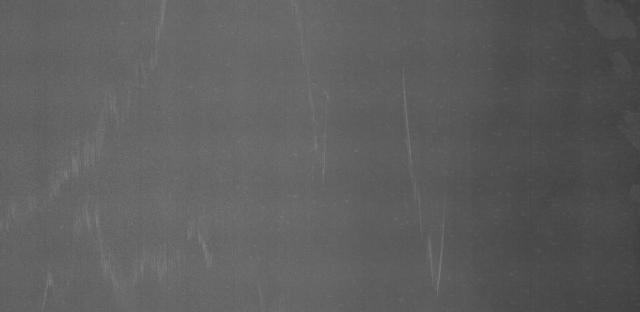silk_spot: (384, 79, 467, 304), (59, 202, 212, 292), (48, 75, 152, 182), (295, 75, 346, 170)
